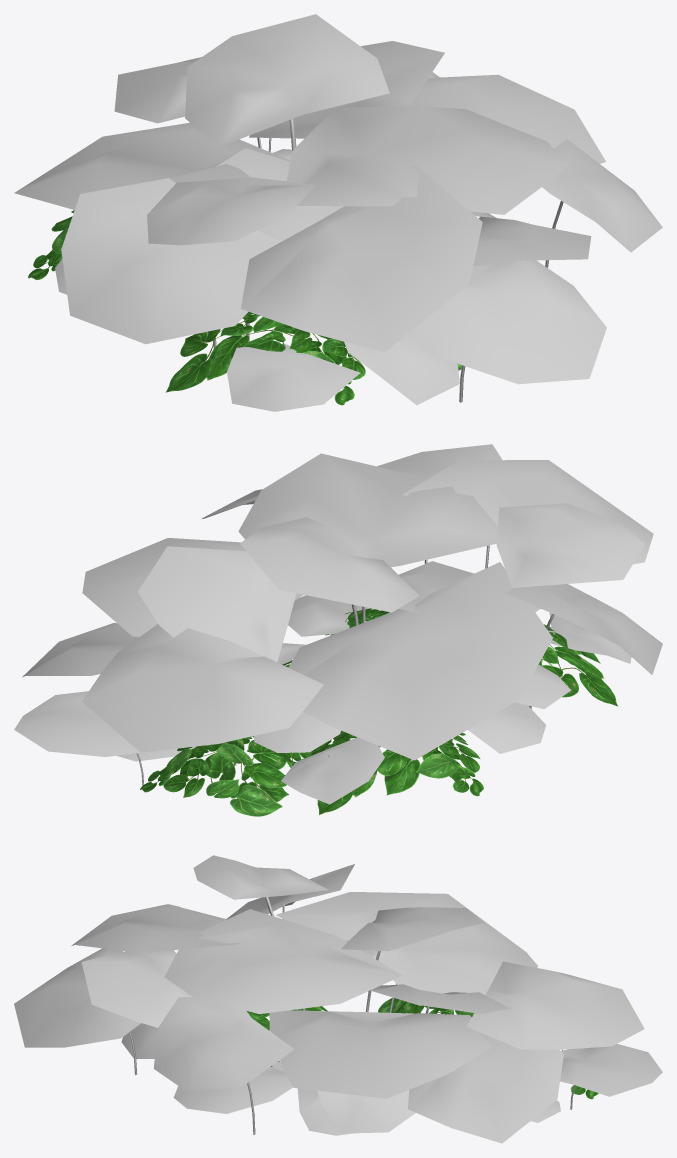
Rendered from groundCover_03_Mixed.FBX.
The picture shows the model from 3 angles, top to bottom: view 1: azimuth 30°, elevation 25°; view 2: azimuth 150°, elevation 25°; view 3: azimuth 270°, elevation 25°; orthographic projection. The views are drawn at different scales.
Visible parts, largest first — view 1: groundCover_03_bigPlants, groundCover_03_MixedSmall; view 2: groundCover_03_bigPlants, groundCover_03_MixedSmall; view 3: groundCover_03_bigPlants, groundCover_03_MixedSmall.
Boxes of the visible parts, <box> form: groundCover_03_bigPlants: <box>14,14,662,411</box>; groundCover_03_MixedSmall: <box>28,210,461,405</box>; groundCover_03_bigPlants: <box>14,444,662,804</box>; groundCover_03_MixedSmall: <box>140,608,618,816</box>; groundCover_03_bigPlants: <box>14,855,662,1143</box>; groundCover_03_MixedSmall: <box>247,998,598,1099</box>.
Bounding box in the file's own units: 80.68 × 31.27 × 105.
